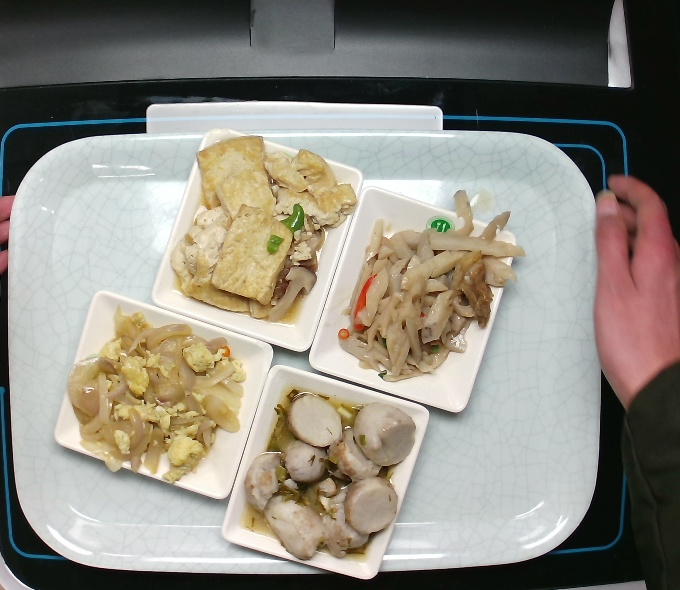wcq-JiaChangDouFu: (167, 130, 361, 325)
wcq-QingChaoOuPian: (333, 188, 530, 384)
wcq-YangCongChaoDan: (64, 307, 252, 487)
wcq-YangYu: (243, 384, 417, 564)
